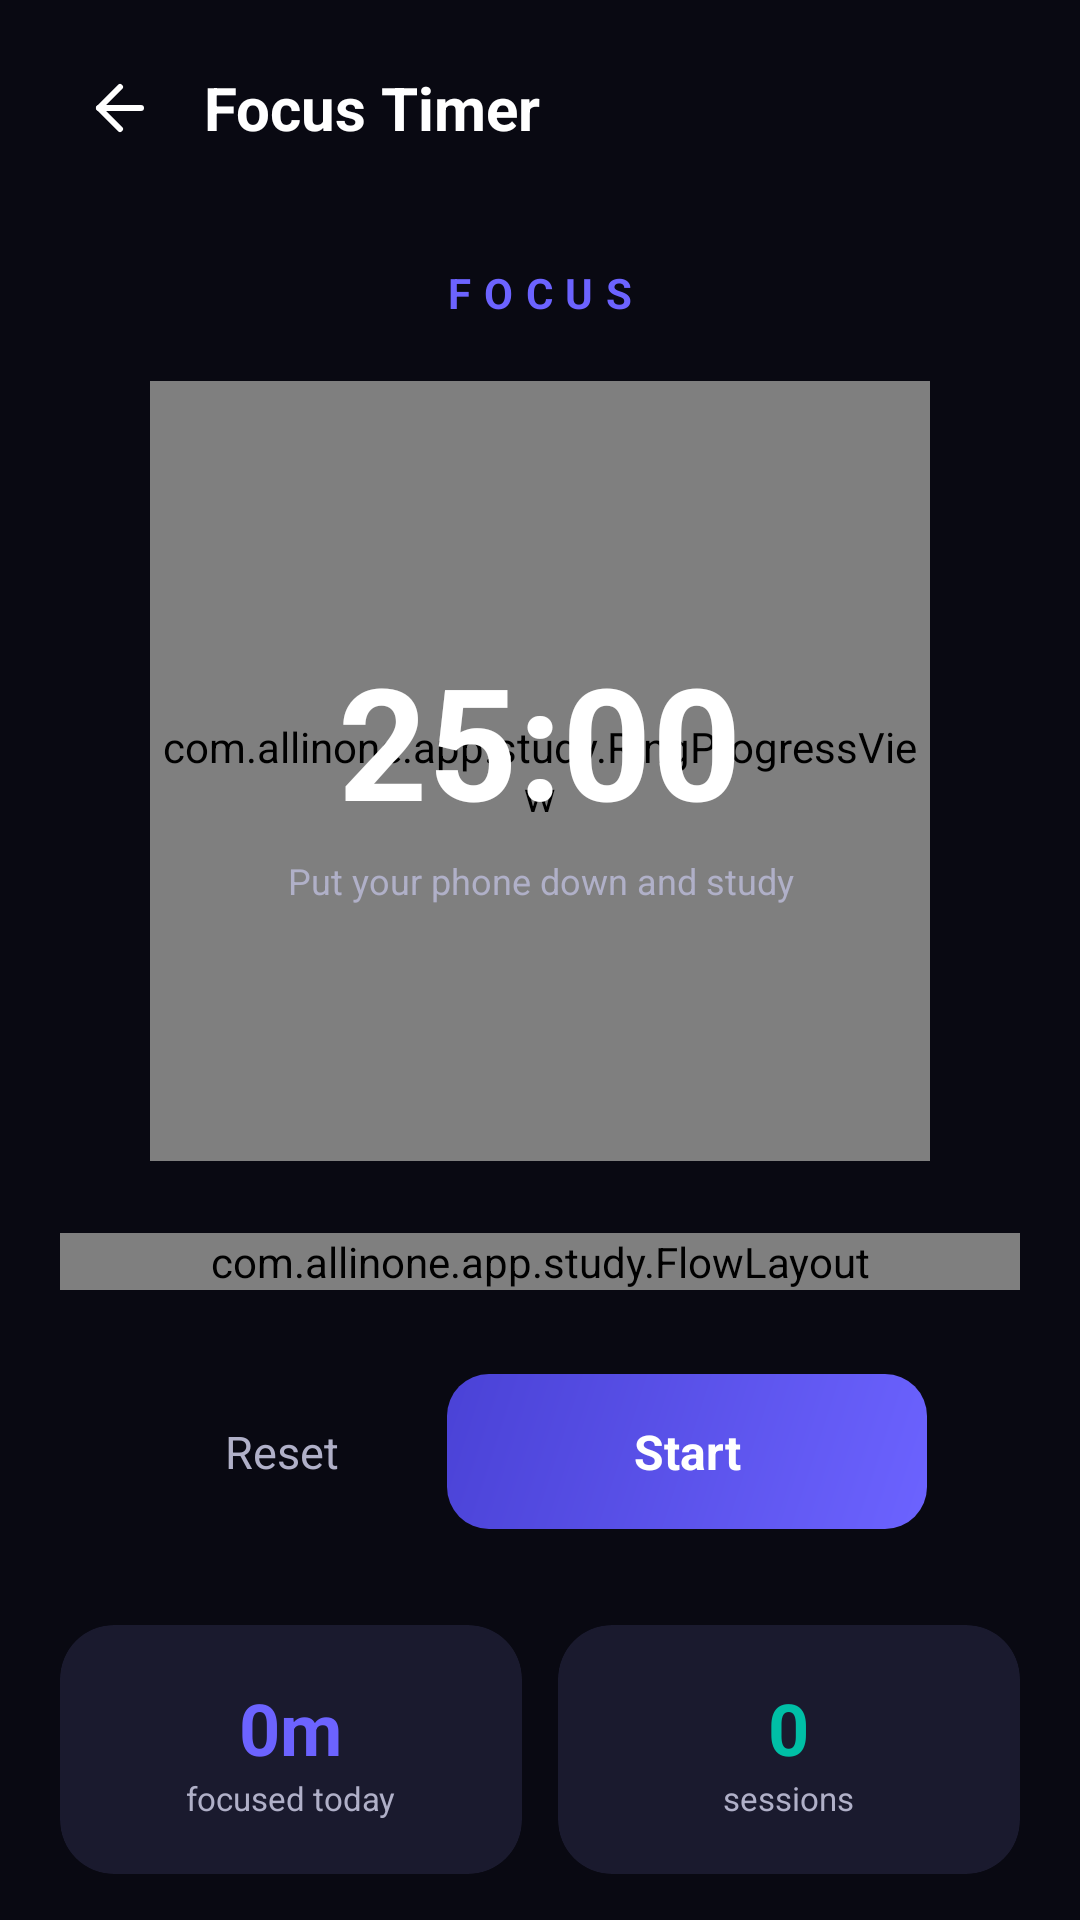

Point at icon controls on the screen. Image size 1080 × 1920, points as (x,y).
arrow back: (120,108)
